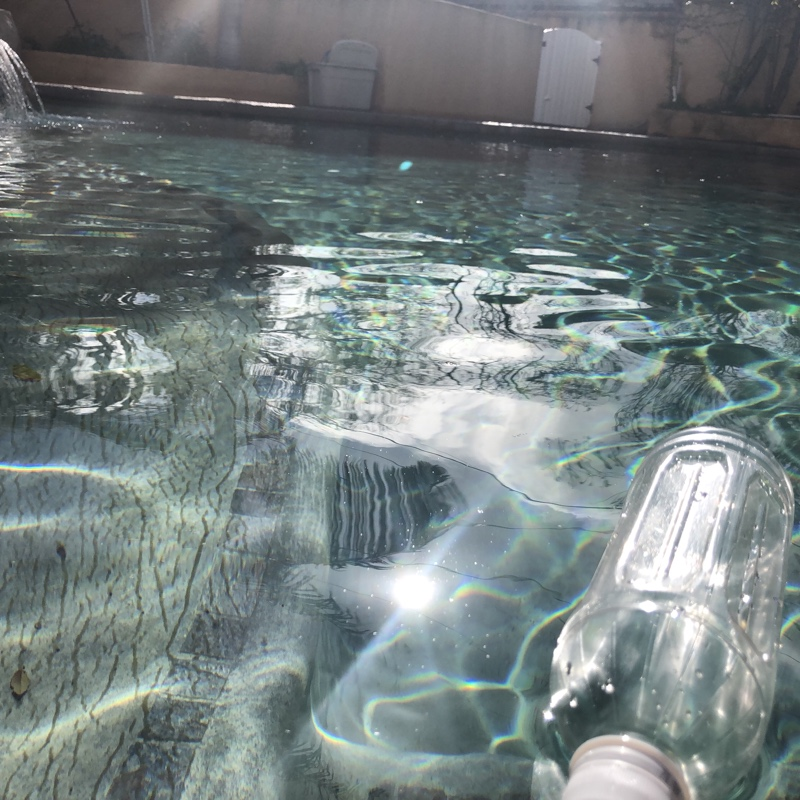Plastic Bottle: (537, 424, 799, 800)
